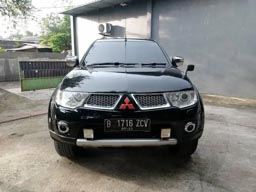plat: (103, 118, 151, 127)
